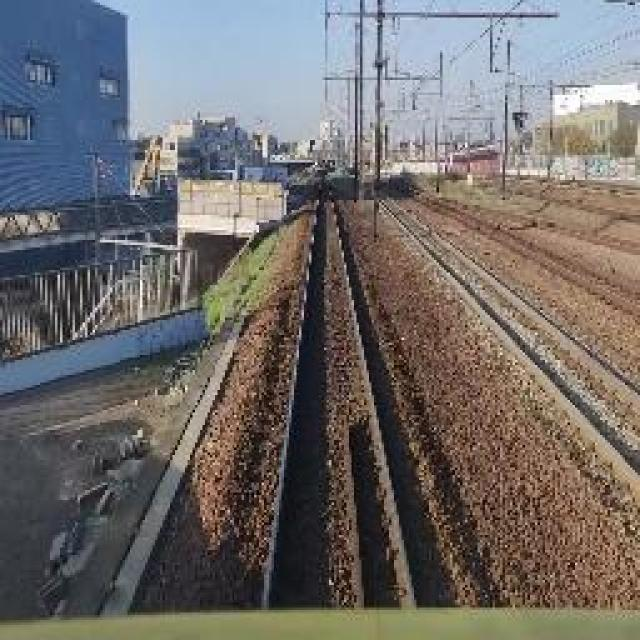rail: (234, 180, 449, 615)
